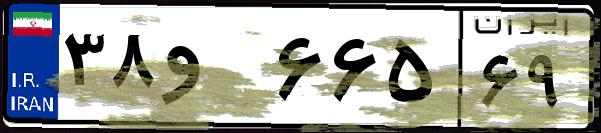3: (57, 26, 110, 100)
5: (385, 28, 445, 110)
6: (270, 28, 330, 110), (330, 28, 385, 110), (475, 38, 525, 113)
8: (110, 28, 158, 98)
9: (525, 38, 570, 115)
و: (158, 20, 270, 120)
